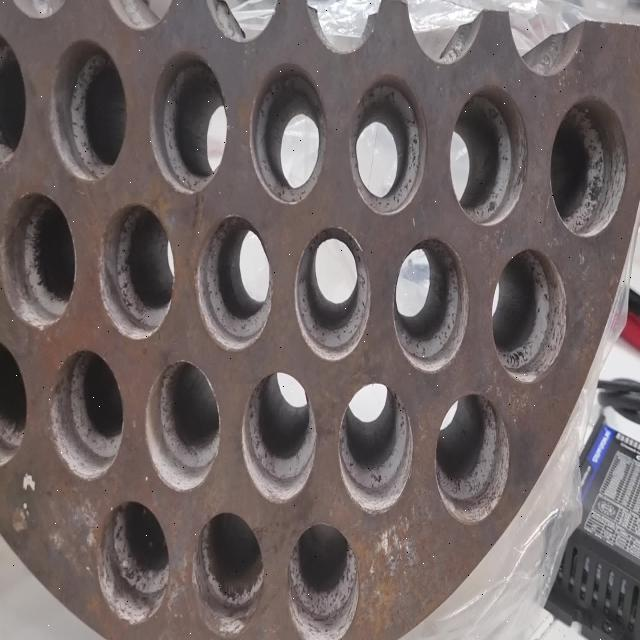Hole: (47, 38, 126, 182), (150, 52, 228, 195), (249, 62, 326, 206), (349, 74, 427, 215), (449, 86, 527, 226), (550, 96, 627, 236), (195, 213, 272, 351), (393, 235, 470, 372), (0, 192, 76, 330), (294, 226, 371, 362), (491, 247, 567, 383), (99, 203, 174, 340), (241, 371, 317, 504), (338, 380, 412, 516), (435, 391, 510, 525), (49, 347, 124, 481), (145, 359, 221, 491), (97, 498, 169, 625), (192, 509, 264, 636), (287, 522, 359, 639)
